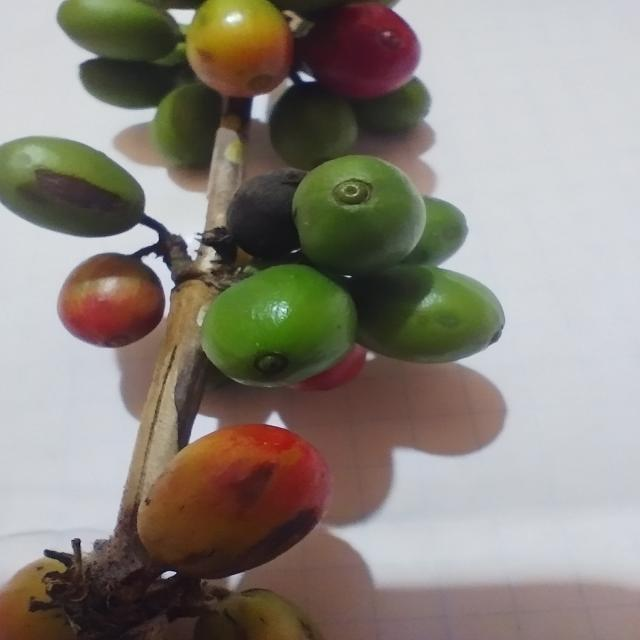Danado: (227, 169, 307, 260)
Sano: (138, 424, 330, 579), (201, 264, 356, 387), (293, 156, 426, 275), (350, 265, 504, 363), (0, 136, 145, 237), (300, 3, 420, 98), (186, 0, 293, 98), (57, 0, 183, 61)
